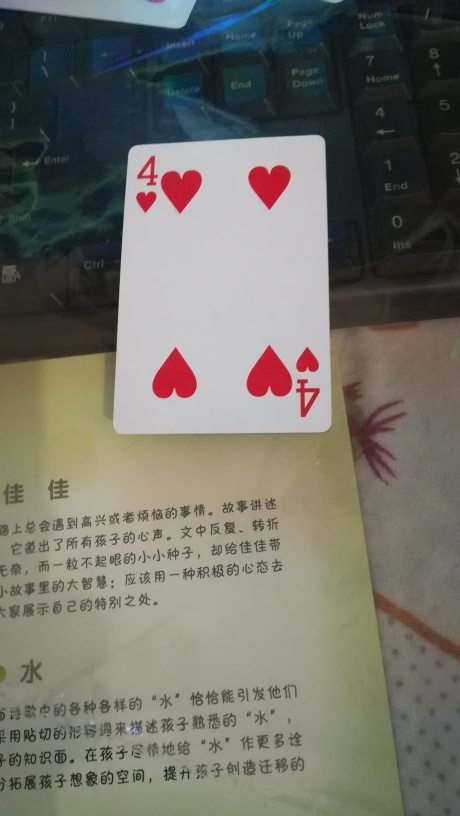hx 4: (112, 135, 334, 436)
